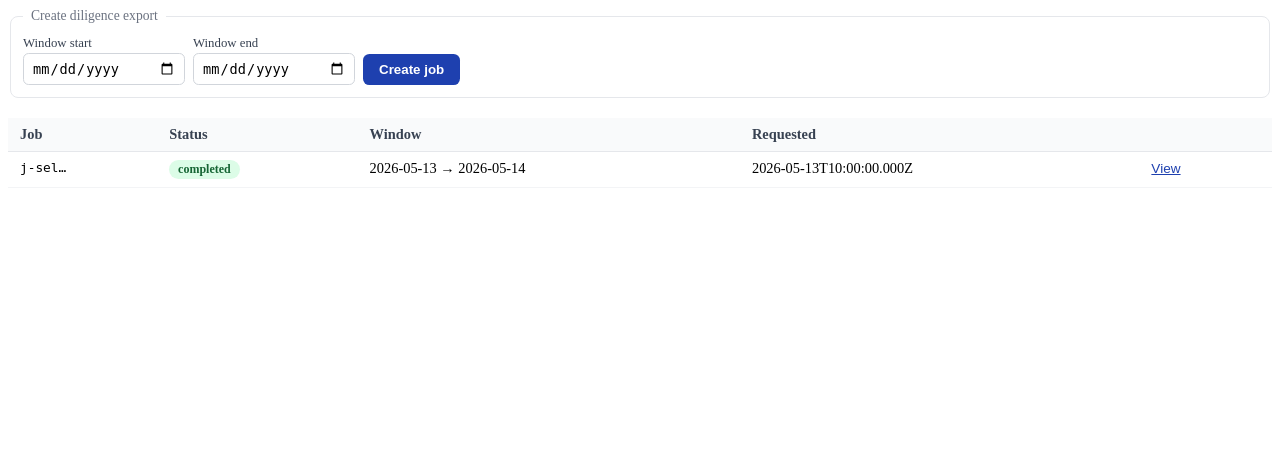
Test: DiligenceWorkspace › selecting a job opens its detail panel
The image size is (1280, 460).
Expected: the row with test id "diligence-job-row-j-sel" is shown, top-left (8, 151), bottom-right (1272, 188)
Click the button with test id "diligence-job-select-j-sel" at (1166, 168), box top-left (1145, 160), bottom-right (1187, 177)
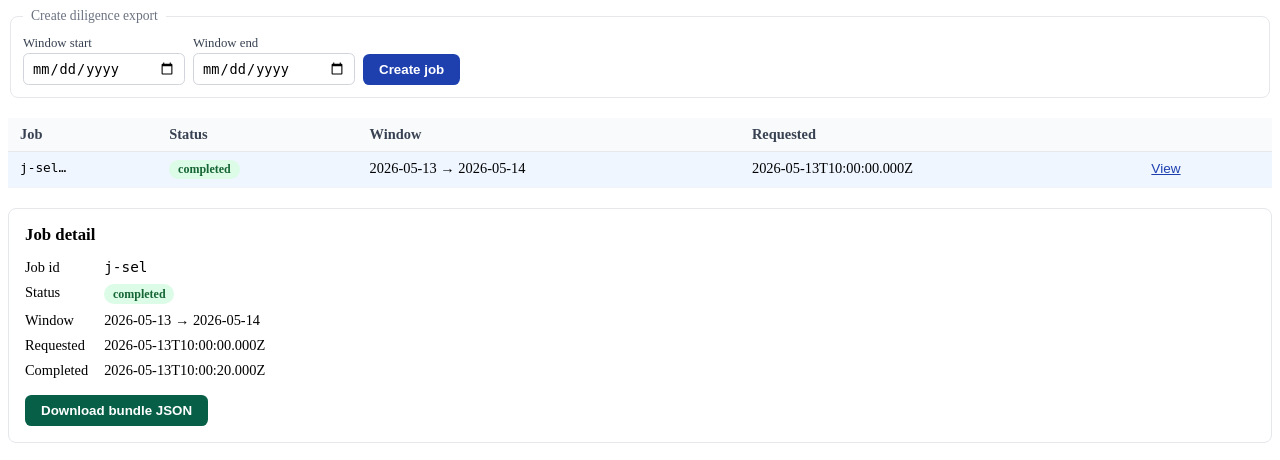
Result: the element with test id "diligence-job-detail" is shown at top-left (8, 208), bottom-right (1272, 443)
Result: the text with test id "diligence-detail-id" reads "j-sel" at top-left (104, 259), bottom-right (148, 275)
